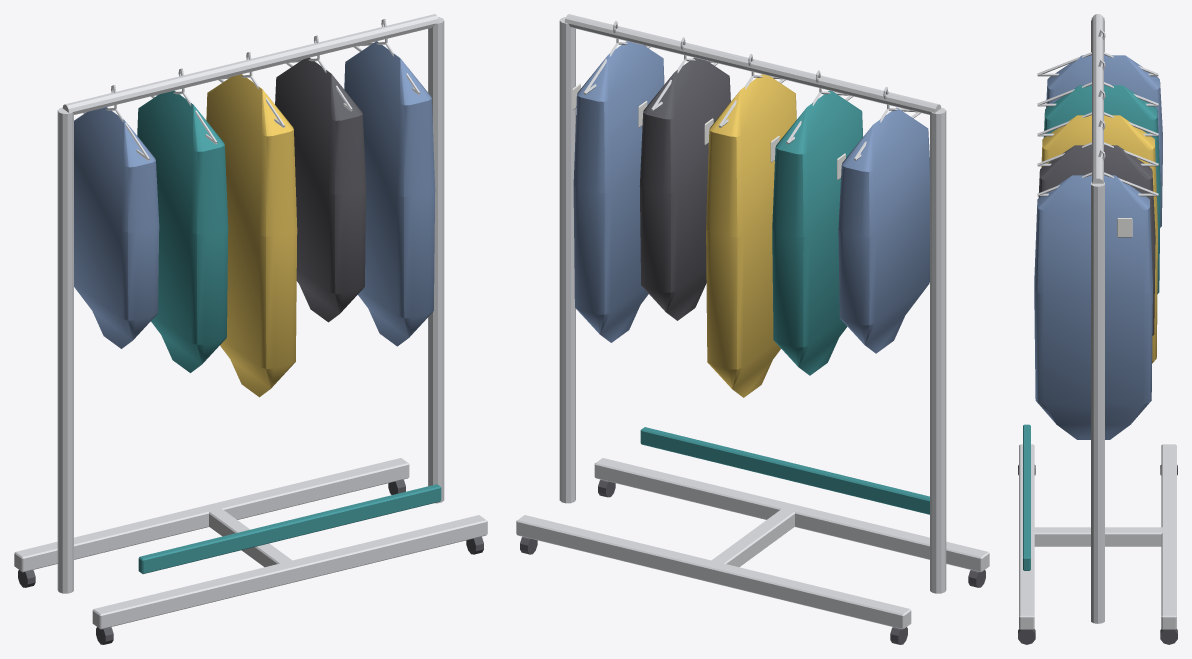
The model's file is dry-cleaners-and-alterations-shop-work-in-progress-gar-82340341__34978.glb.
The picture shows the model from 3 angles, left to right: view 1: azimuth 30°, elevation 25°; view 2: azimuth 150°, elevation 25°; view 3: azimuth 270°, elevation 25°; orthographic projection. The views are drawn at different scales.
Visible parts, largest first — view 1: work-in-progress-garment-rail; view 2: work-in-progress-garment-rail; view 3: work-in-progress-garment-rail.
Part boxes in pixels (x1,y1,x2,y2): work-in-progress-garment-rail: (14,14,487,644); work-in-progress-garment-rail: (516,14,989,644); work-in-progress-garment-rail: (1018,14,1177,644).
Size of the model in its own units: 1.32 by 1.68 by 0.5171.
